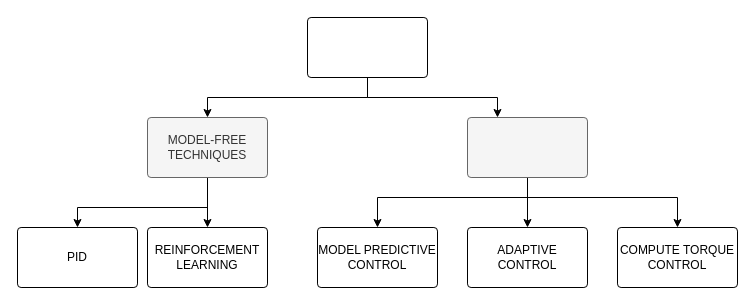
Some shapes in this 755 by 305 pixel diagram are drawn without their labels. Here are the shapes that lost their labels. From the top down, the centre of each, then its label:
At (367,47): "ROBOT CONTROL TECHNIQUES".
At (527,147): "MODEL-BASED TECHNIQUES".
